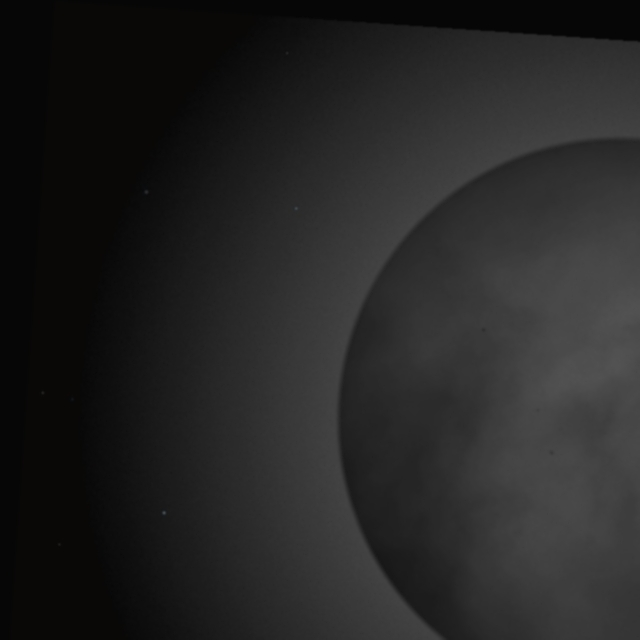sunspot: (54, 538, 64, 549), (142, 186, 151, 197), (533, 406, 542, 414), (547, 448, 555, 457), (480, 326, 487, 334)
